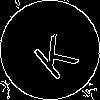K: (25, 25, 80, 82)
